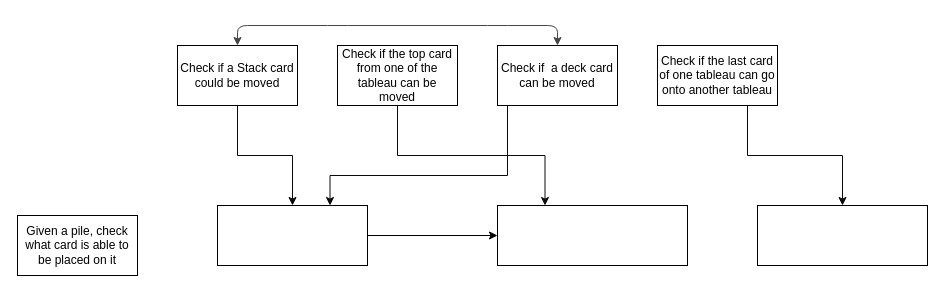
This 945x293 diagram has some shape labels left out. Here are the shapes that lost their labels. From the top down, the centre of each, then its label:
(x=292, y=235): checkCardtableau(Pile p)
(x=592, y=235): checkCardFoundation(Pile p)
(x=842, y=235): CheckTableauMove(Pile p)
